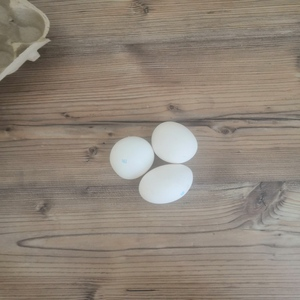white egg: (138, 163, 194, 205), (151, 120, 199, 165), (109, 134, 155, 180)
